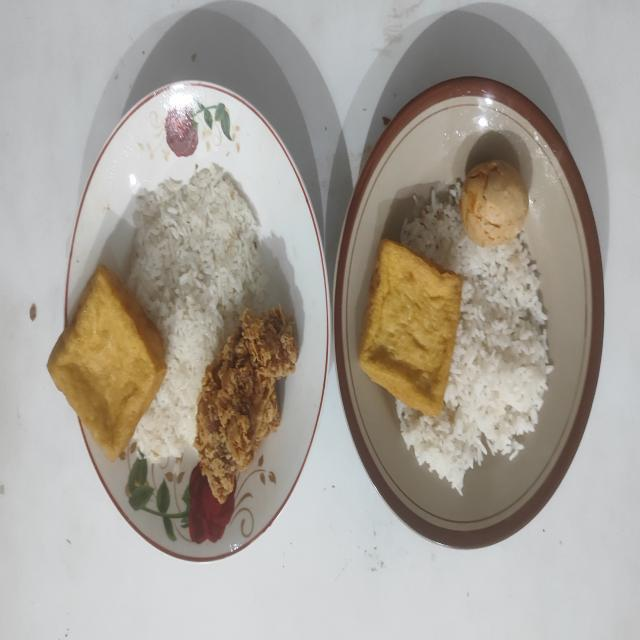nasi_putih: (396, 183, 554, 492), (127, 164, 264, 462)
tahu_goreng: (47, 264, 166, 462), (358, 239, 462, 416)
